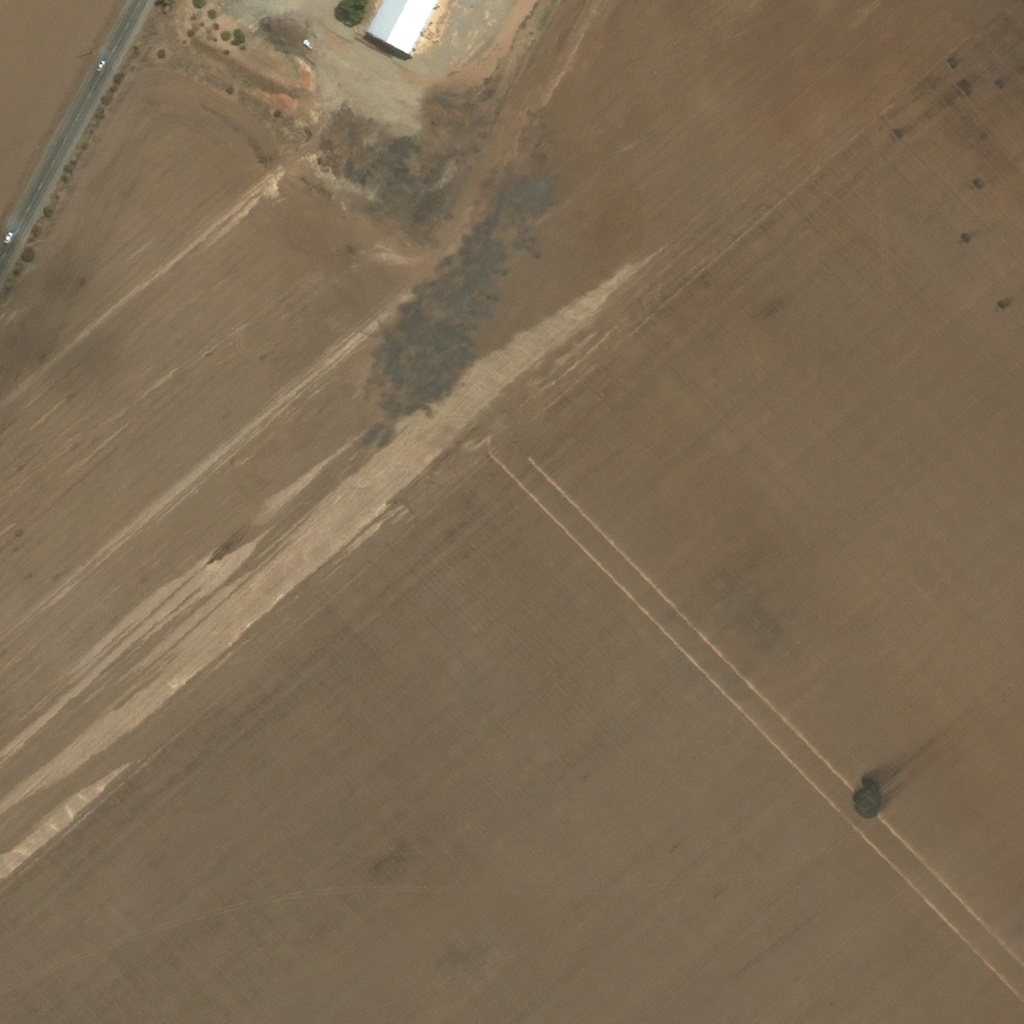0 no-damage: (367, 0, 438, 57)
